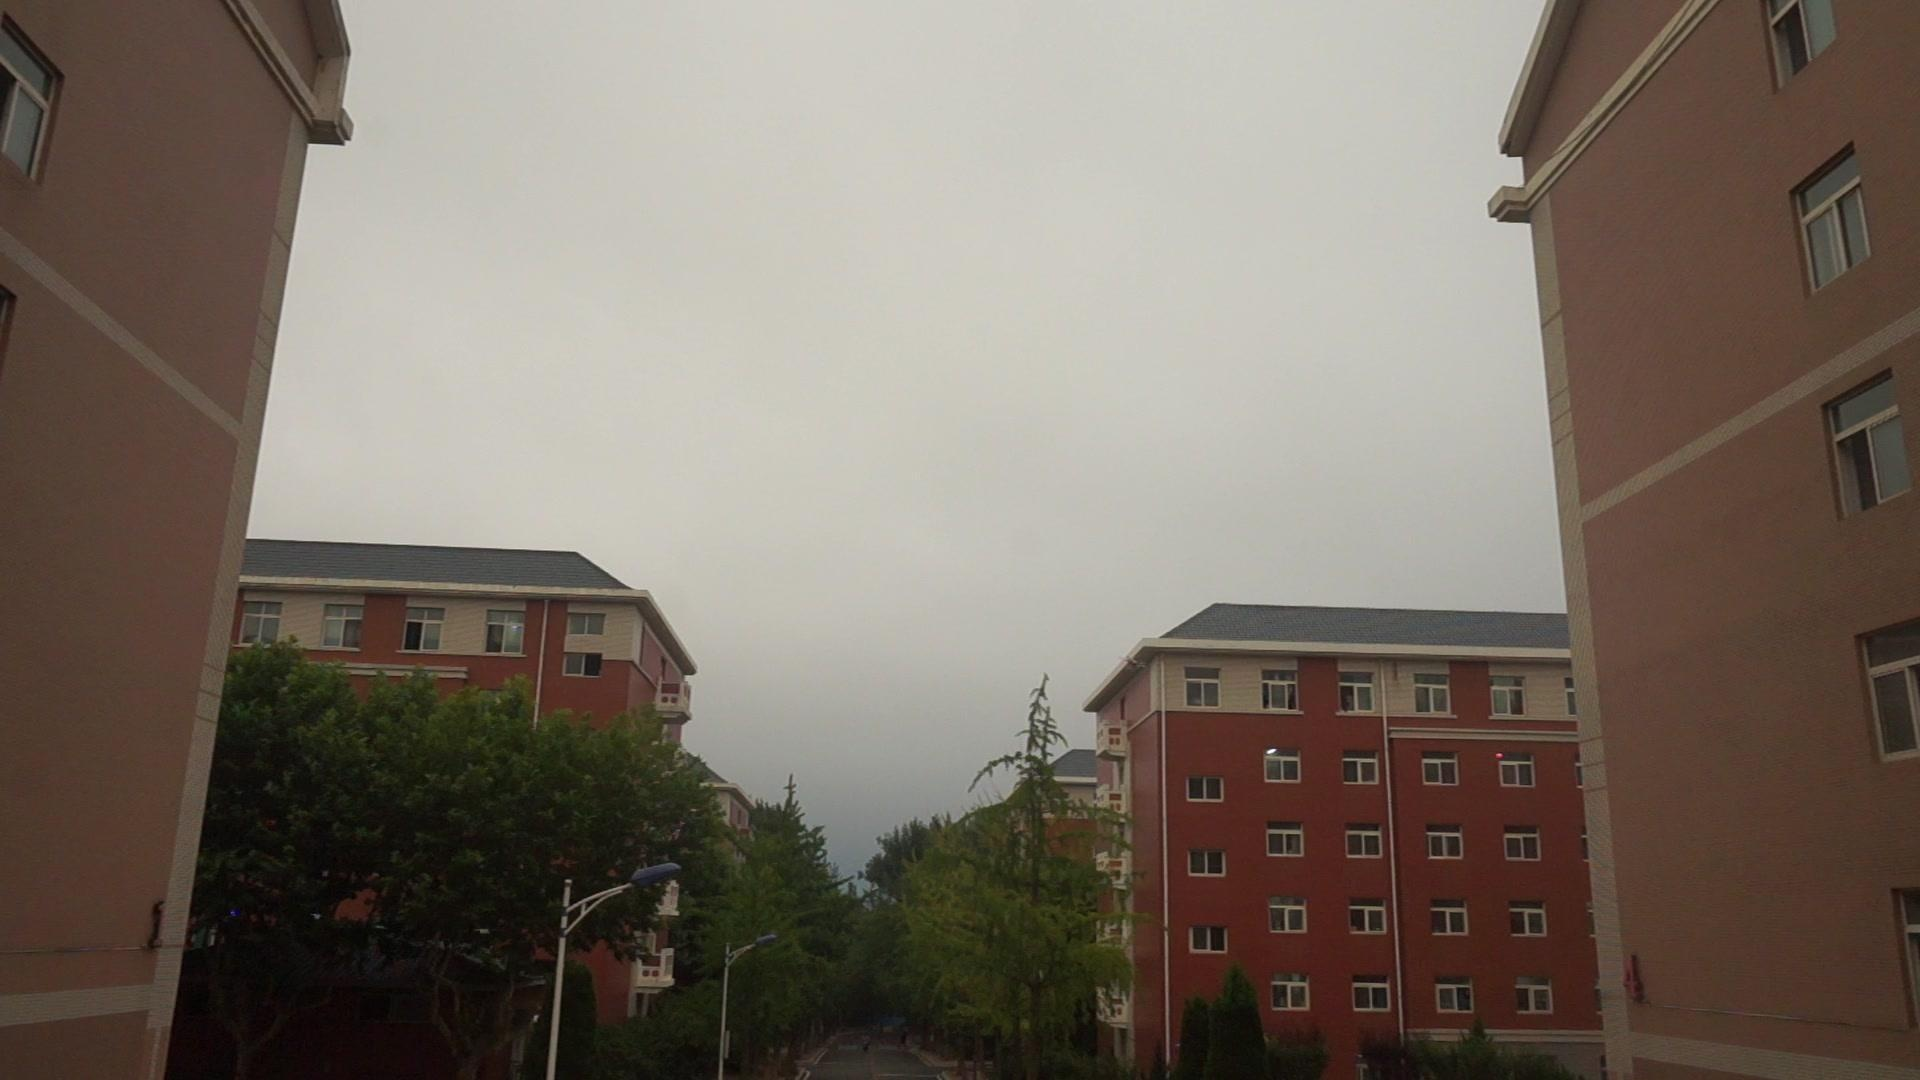UAV: (1120, 657, 1147, 673)
